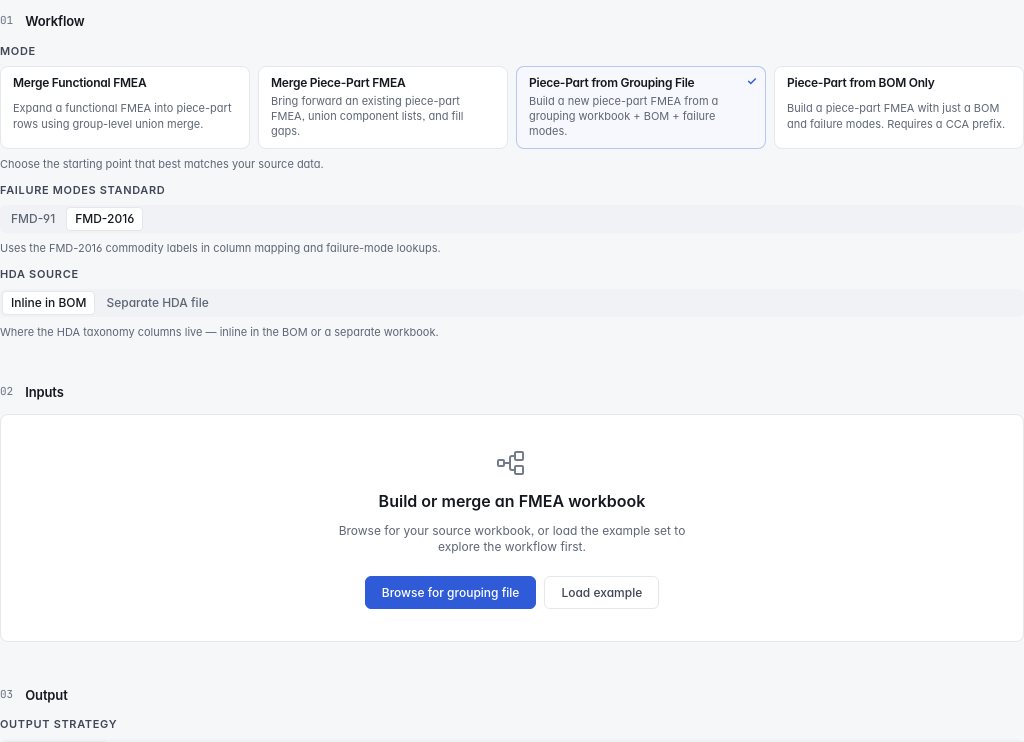
FmeaTool inspection flow › prunes orphaned mapping overrides when re-inspected columns drop the mapped column
Click the button "Browse for grouping file": (451, 592) [365,576,536,608]
(page scrolled)
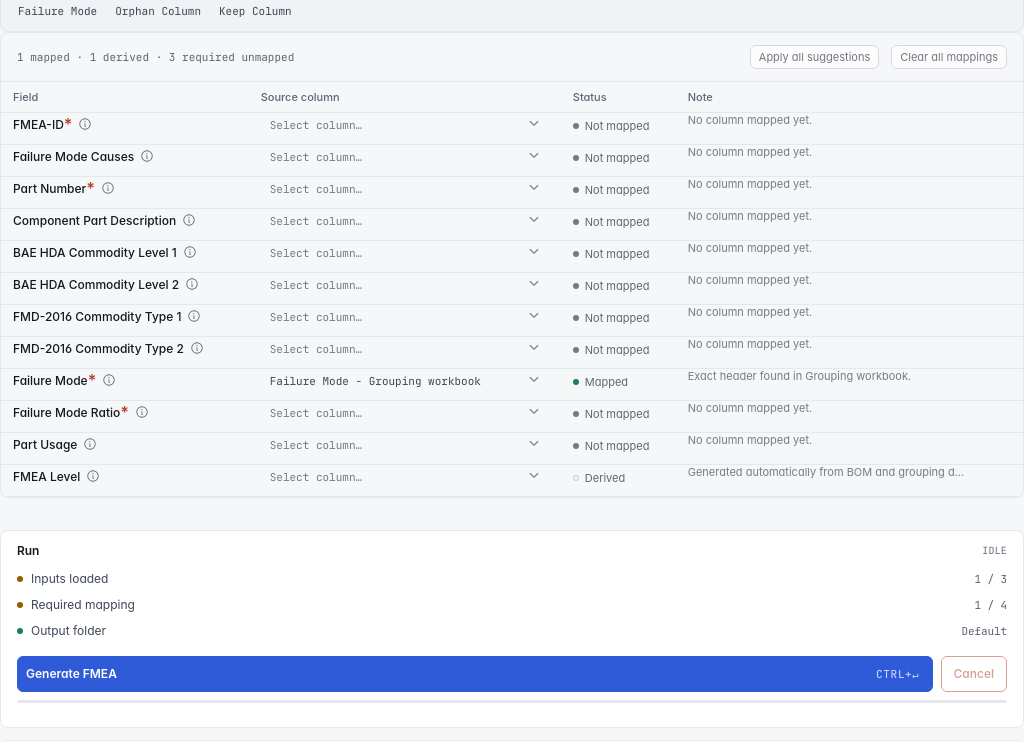
Click the dropdown named "Failure Mode mapping": (405, 381) [261,369,549,393]
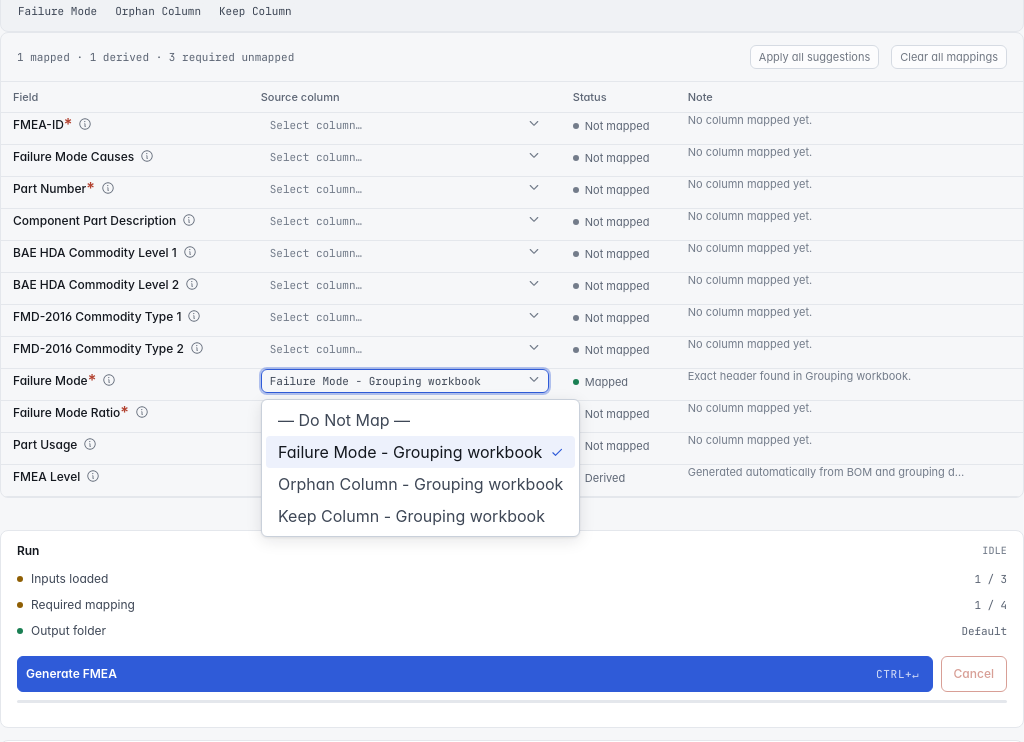
Click the option "Orphan Column - Grouping workbook": (421, 484) [266,468,575,500]
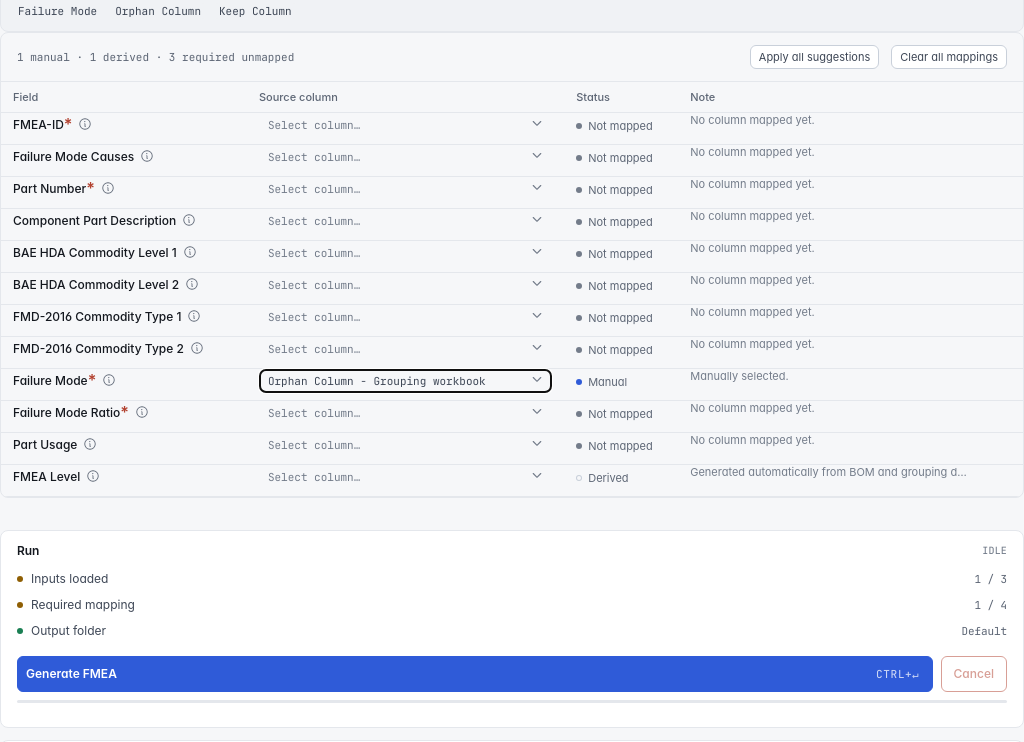
Click the dropdown named "Failure Mode Ratio mapping": (314, 413) [259,401,552,425]
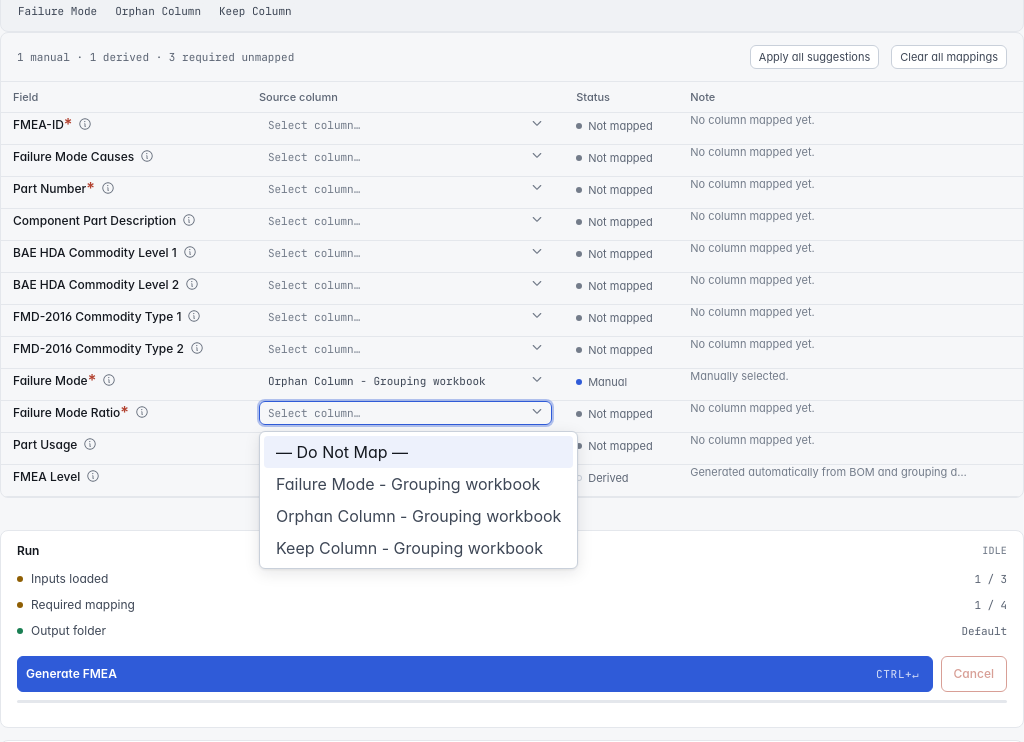
Click the option "Keep Column - Grouping workbook": (419, 548) [264,532,573,564]
(page scrolled)
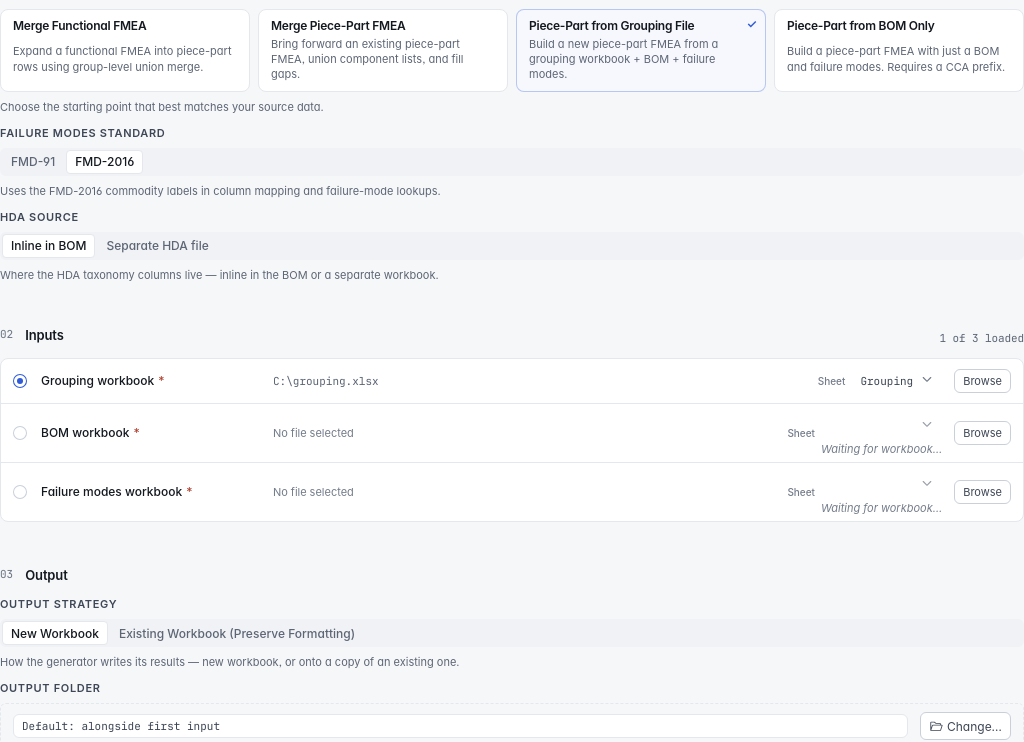
Click the button "Browse" in the row of "C:\\grouping.xlsx": (983, 381) [954,369,1011,393]
(page scrolled)
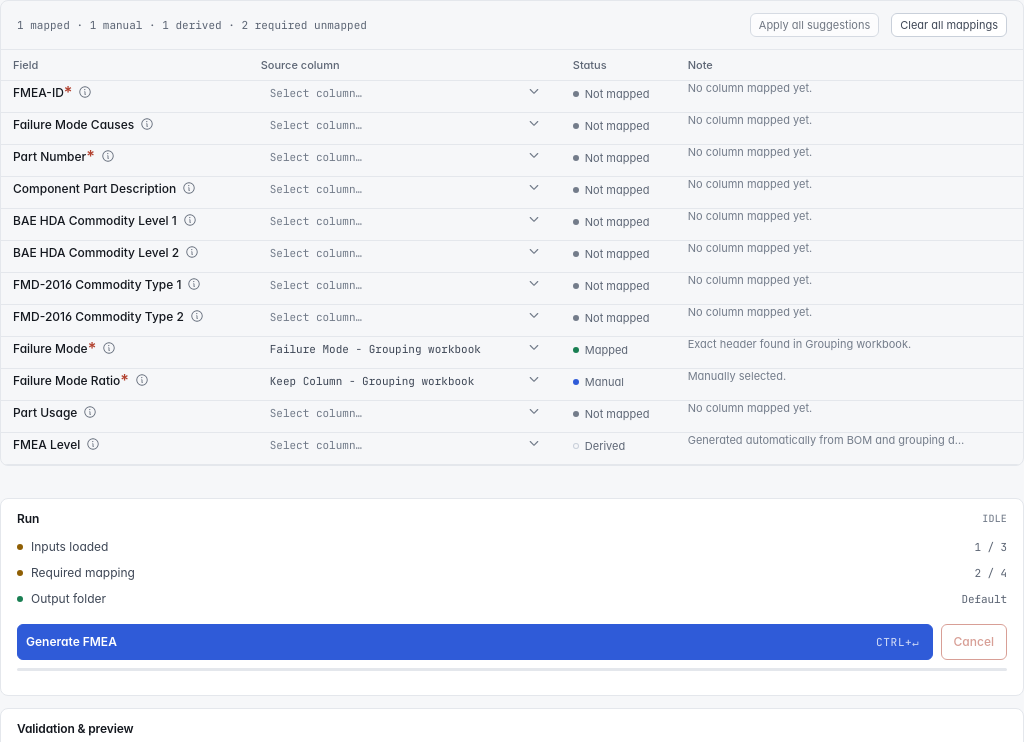
Now the dropdown named "Failure Mode mapping" does not show "Orphan Column", box [261,337,549,361]
Now the dropdown named "Failure Mode Ratio mapping" reads "Keep Column - Grouping workbook", box [261,369,549,393]
Now the dropdown named "Failure Mode mapping" reads "Failure Mode - Grouping workbook", box [261,337,549,361]
